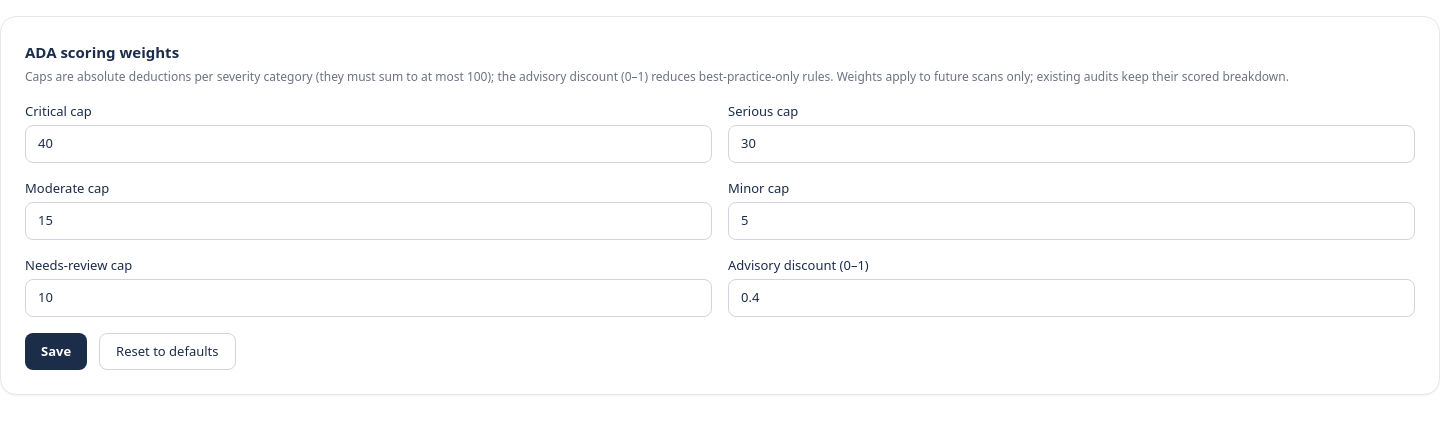
AdaScoringWeightsCard › renders the server error string on a 400 response
Expected: the text "Critical cap" is shown, [25,102,712,162]
What coordinates should you click on to do the following:
click the button "Save"
I would click on:
 (56, 351)
Its box is [25,332,87,370].
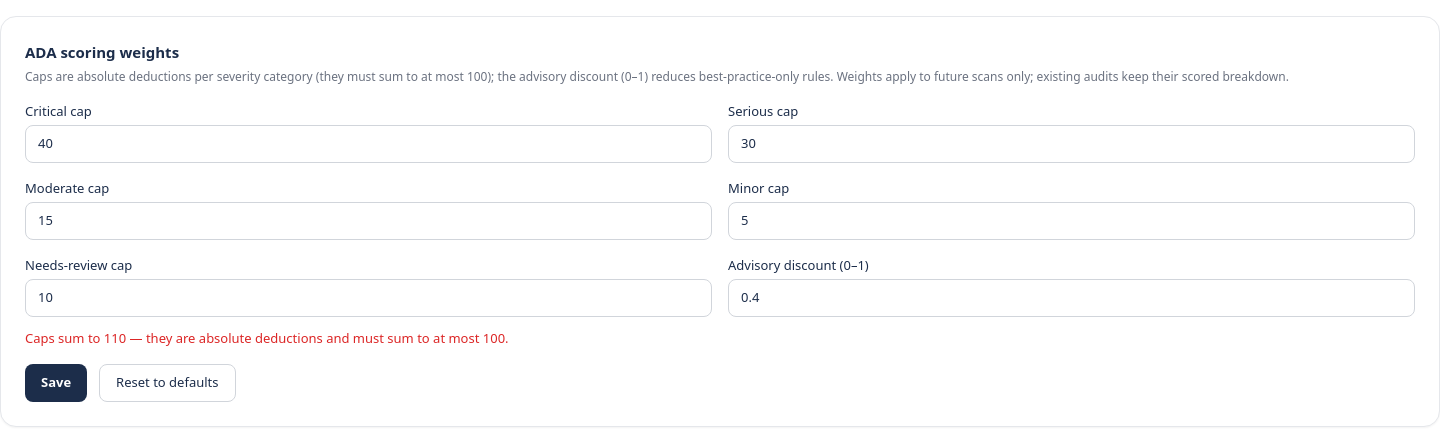
Expected: the text "Caps sum to 110" is shown, [25,328,509,346]
